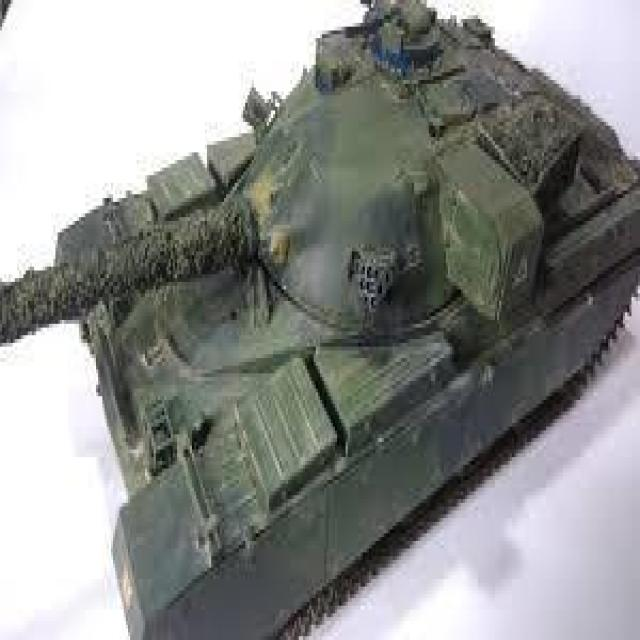Tanks: (27, 15, 618, 610)
